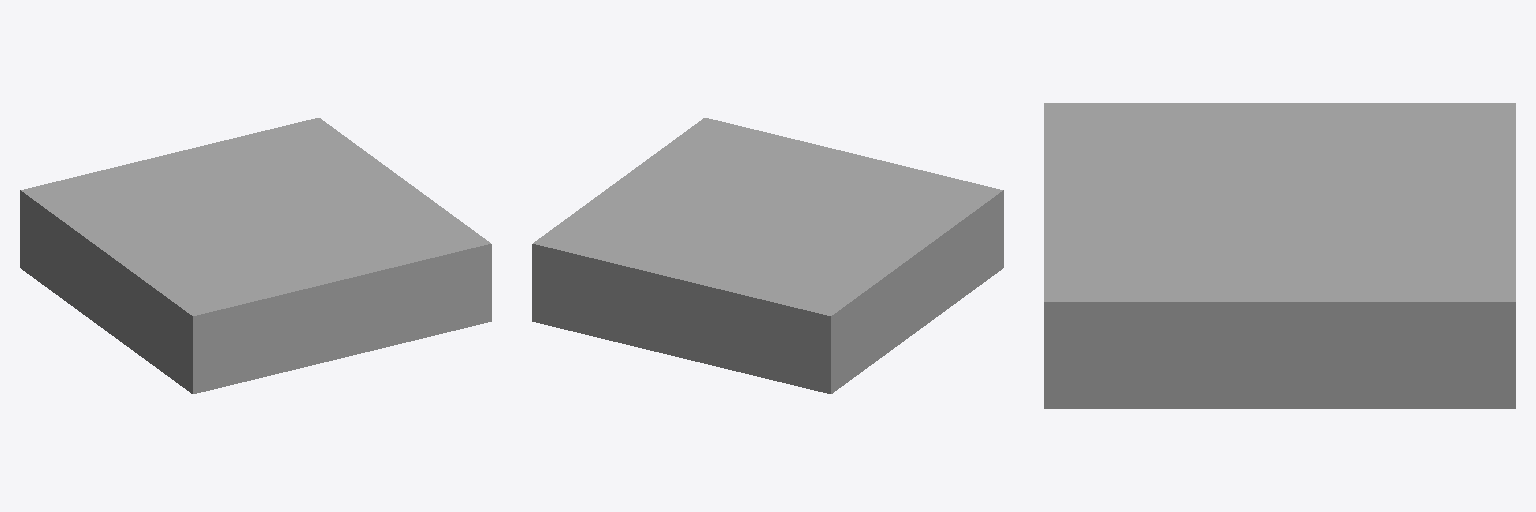
robot.urdf — box:
<?xml version="1.0" ?>
<robot name="box" xmlns:xacro="http://www.ros.org/wiki/xacro">
  <material name="yellow">
    <color rgba="1 1 0 0.5"/>
  </material>  
  <material name="red">
    <color rgba="0.7 0.7 0.7 0.5"/>
  </material>    
  <link name="world"/>
	<link name="box_link">
		<inertial>
			<origin rpy="0 0 0" xyz="0 0 0"/>
			<mass value="0" />
			<inertia ixx="0.0" iyy="0.0" izz="0.0" ixy="0" iyz="0" ixz="0"/>
		</inertial>
		<visual>
			<origin rpy="0 0 0.0" xyz="0 0 0"/>
			<geometry>
				<cylinder radius="0.1" length="0.001"/>
			</geometry>
		<material name="yellow"/>
		</visual>
		<collision>
			<origin rpy="0 0 0.0" xyz="0 0 0"/>
			<geometry>
				<cylinder radius="0.1" length="0.001"/>
			</geometry>
		</collision>
	</link>
	<link name="sensor_link">
		<inertial>
			<origin rpy="0 0 0" xyz="0 0 0"/>
			<mass value="1" />
			<inertia ixx="0.0" iyy="0.0" izz="0.0" ixy="0" iyz="0" ixz="0"/>
		</inertial>
		<visual>
			<origin rpy="0 0 0" xyz="0 0 0.125"/>
			<geometry>
				<box size="1 1 0.25"/>
			</geometry>
		<material name="red"/>
		</visual>
		<collision>
			<origin rpy="0 0 0" xyz="0 0 0.125"/>
			<geometry>
				<box size="1 1 0.25"/>
			</geometry>
		</collision>
	</link>	
<joint name="world_joint" type="fixed">
    <parent link="world"/>
    <child link="box_link"/>
    <origin rpy="0 0 0" xyz="0 0 0.0"/>
  </joint>

  <joint name="sensor_joint" type="floating">
    <parent link="box_link"/>
    <child link="sensor_link"/>
    <origin rpy="0 0 0" xyz="0 0 0.000"/>
  </joint>
</robot>

--- Facts derived from the render (not from the file) ---
Views: 3 orthographic renders of the robot side by side, from view 1: azimuth 30°, elevation 25°; view 2: azimuth 150°, elevation 25°; view 3: azimuth 270°, elevation 25°.
Robot: box — 3 links, 2 joints (1 fixed, 1 floating); root link world; default pose: every joint at zero.
Links seen in each view (by area): view 1: sensor_link; view 2: sensor_link; view 3: sensor_link.
Link boxes in pixels (x1=…): sensor_link: x1=20, y1=118, x2=491, y2=393; sensor_link: x1=532, y1=118, x2=1003, y2=393; sensor_link: x1=1044, y1=103, x2=1515, y2=408.
Bounding box of the posed robot: 1 × 1 × 0.2505 m (x, y, z).
Geometry: primitives only (box / cylinder / sphere), no mesh files.